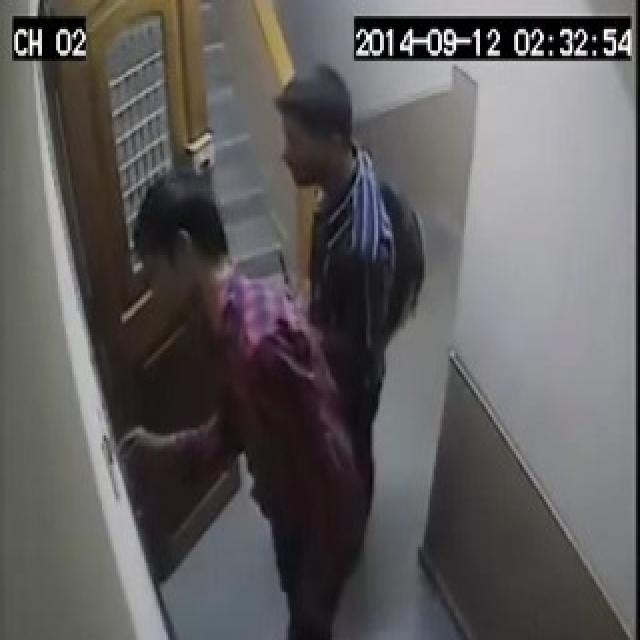burglary: (56, 212, 323, 550)
